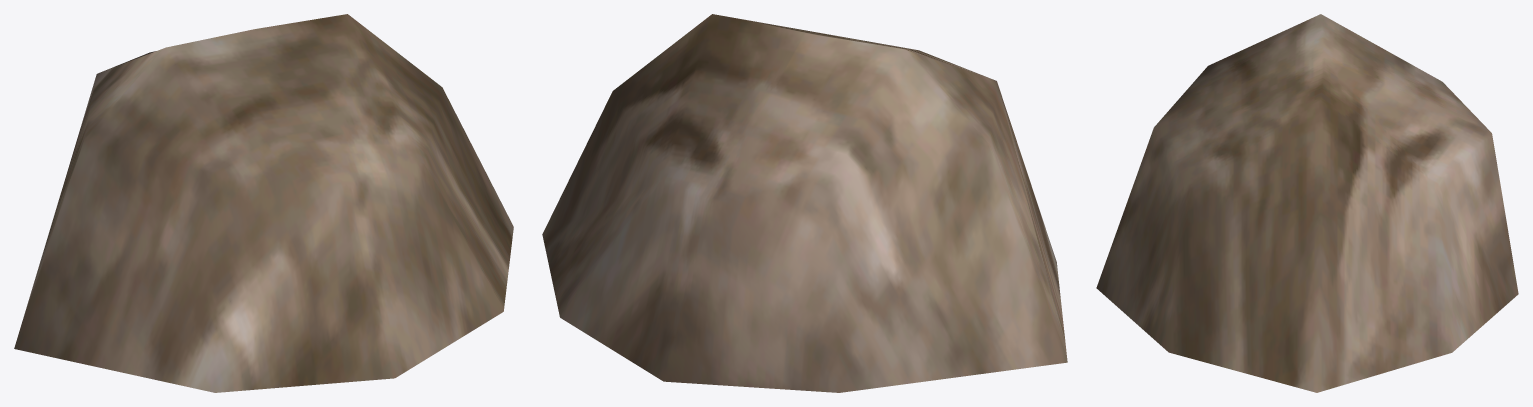
Rendered from OVERHILL_A_01_ROCK62.fbx.
3 views of the same model, side by side, from view 1: azimuth 30°, elevation 25°; view 2: azimuth 150°, elevation 25°; view 3: azimuth 270°, elevation 25° (orthographic). The views are drawn at different scales.
Visible parts, largest first — view 1: OVERHILL_A_01_ROCK62; view 2: OVERHILL_A_01_ROCK62; view 3: OVERHILL_A_01_ROCK62.
Part boxes in pixels (box(x1,y1,x2,y2)): OVERHILL_A_01_ROCK62: box(14, 14, 513, 392); OVERHILL_A_01_ROCK62: box(542, 14, 1067, 392); OVERHILL_A_01_ROCK62: box(1096, 14, 1518, 392).
Bounding box in the file's own units: 4611 × 2312 × 3836.
Materials: 1 (1 with a texture image).
